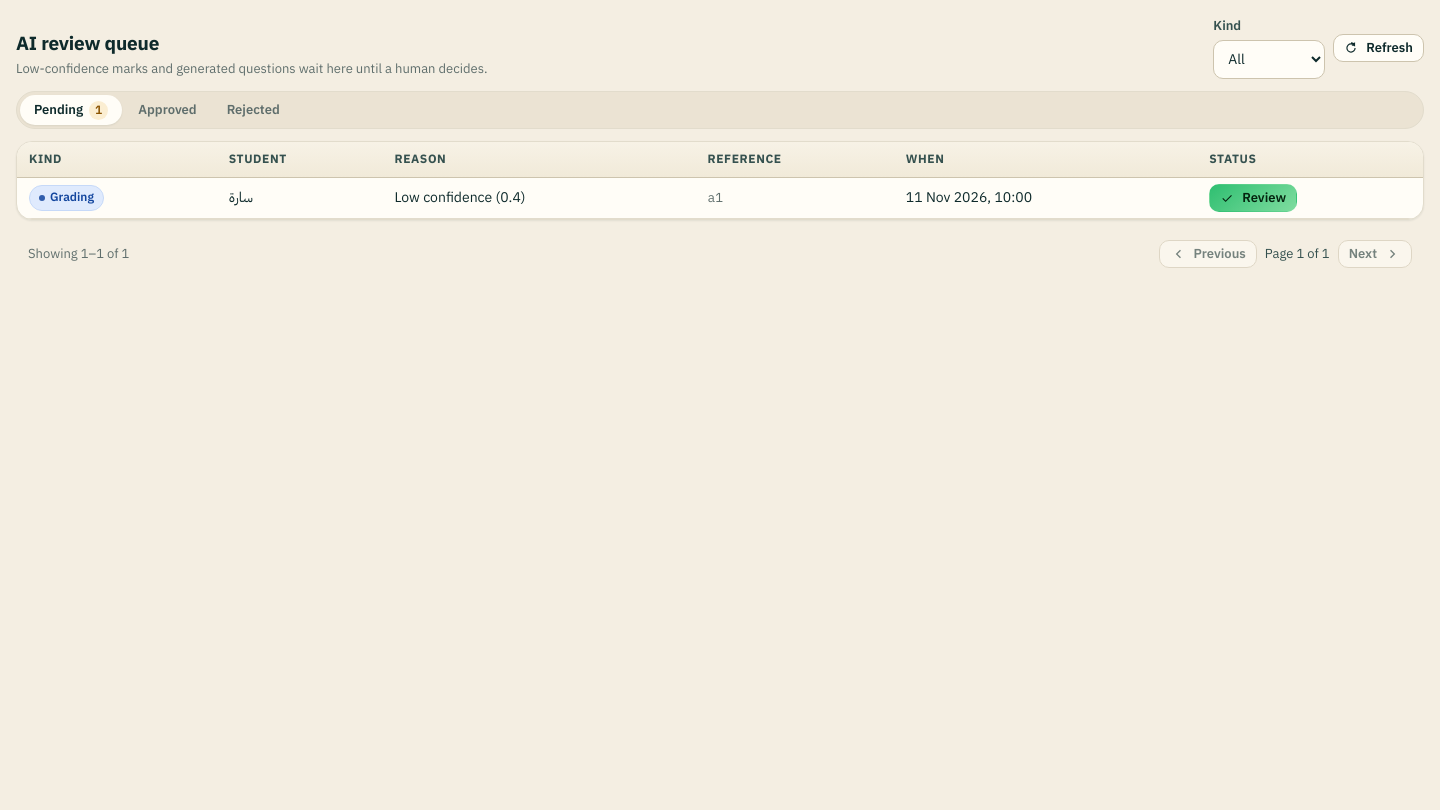
Scenario: AiReviewsPage › keeps the modal open with the server error when the resolve fails
Click the text "Low confidence (0.4)": click(460, 198) [394,187,526,208]
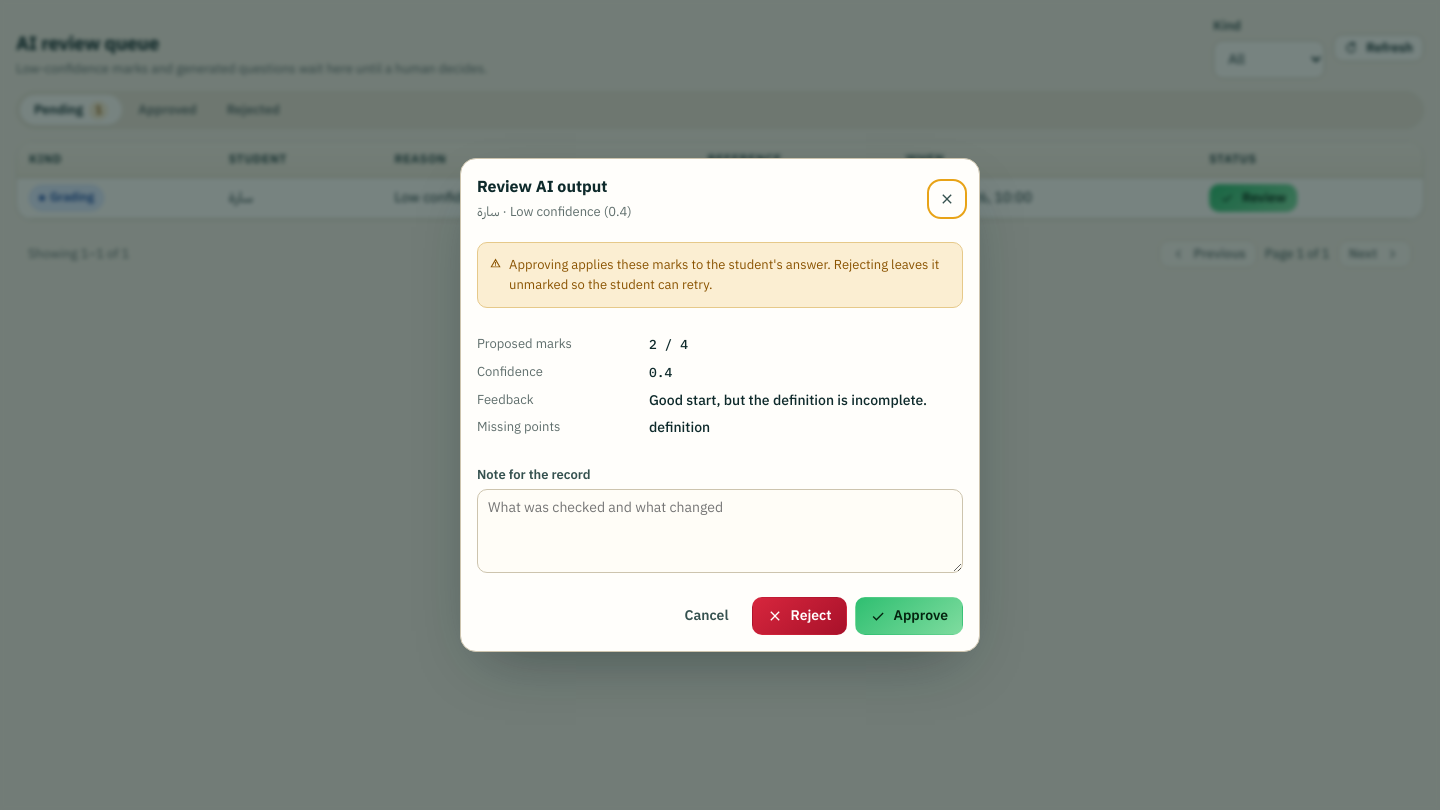
Click the button "Approve": click(909, 616) [854,597,963,635]
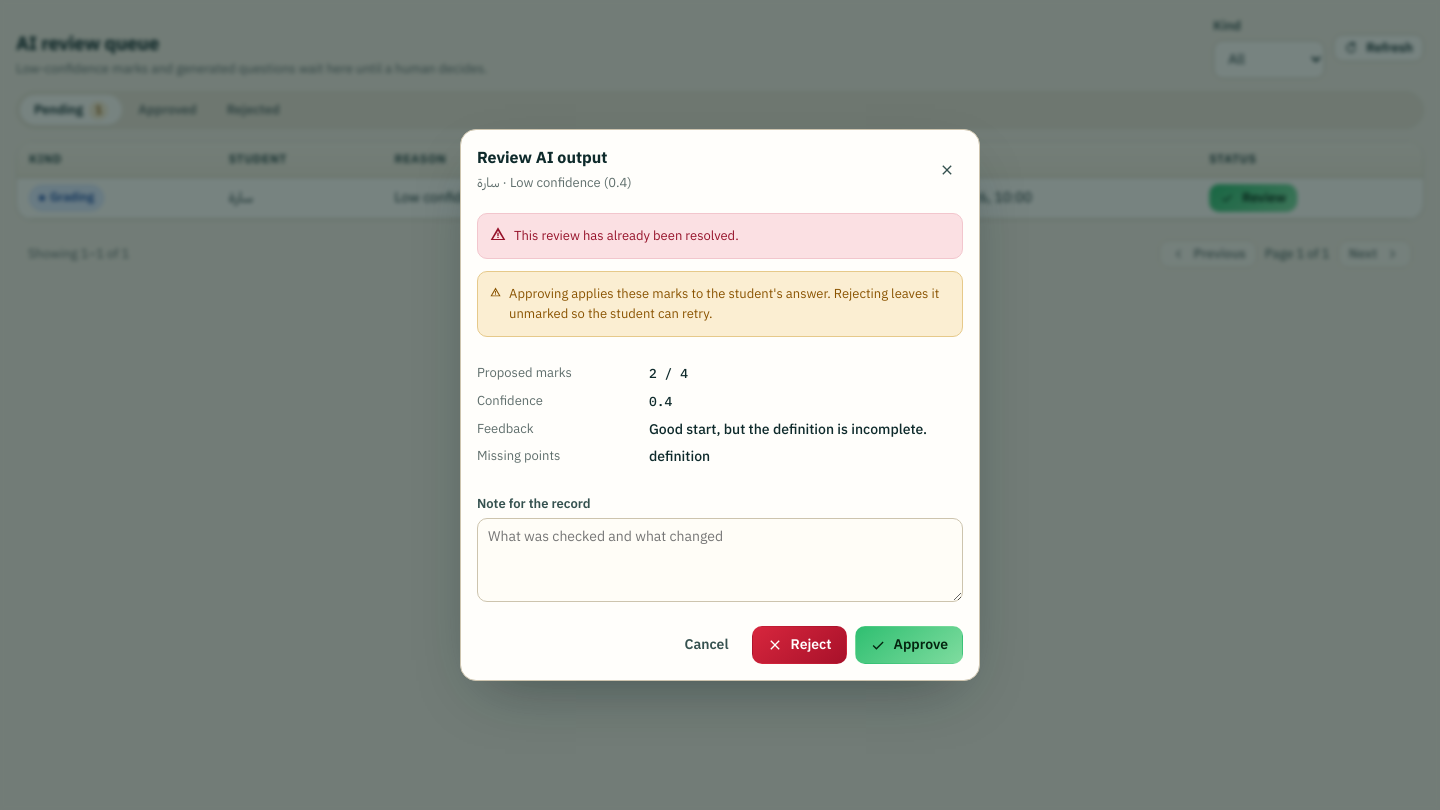
Expected: the dialog is shown, [460,129,980,681]
Expected: the text "This review has already been resolved." is shown, [514,226,739,245]
